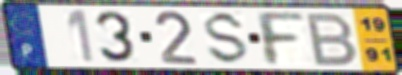1: (63, 7, 96, 66)
2: (154, 9, 200, 66)
3: (93, 9, 138, 65)
B: (305, 11, 361, 68)
F: (252, 9, 308, 68)
S: (203, 10, 252, 67)
